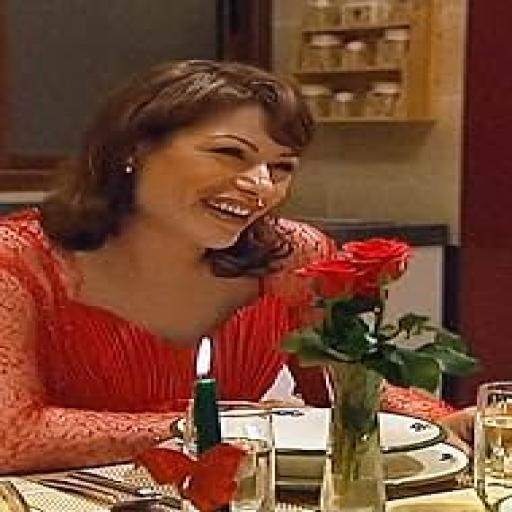zeineb: (146, 106, 301, 247)
